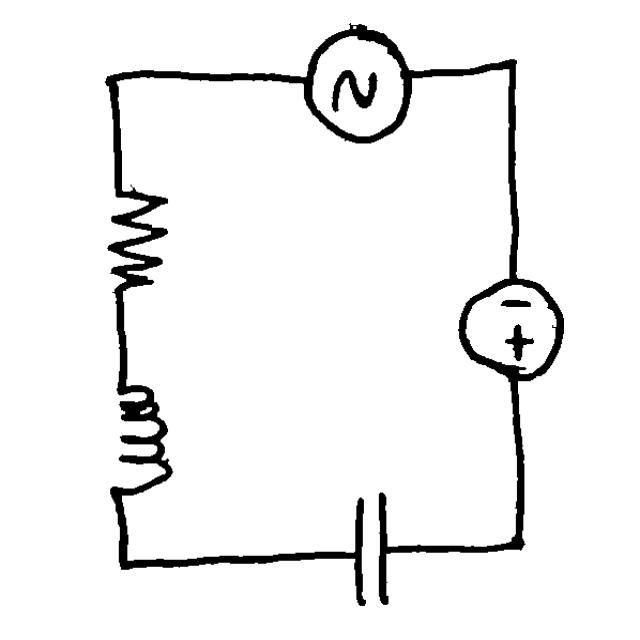ac: (297, 17, 418, 150)
capacitor: (349, 477, 398, 617)
dc: (445, 263, 570, 387)
inductor: (95, 369, 180, 524)
resistor: (96, 170, 181, 308)
